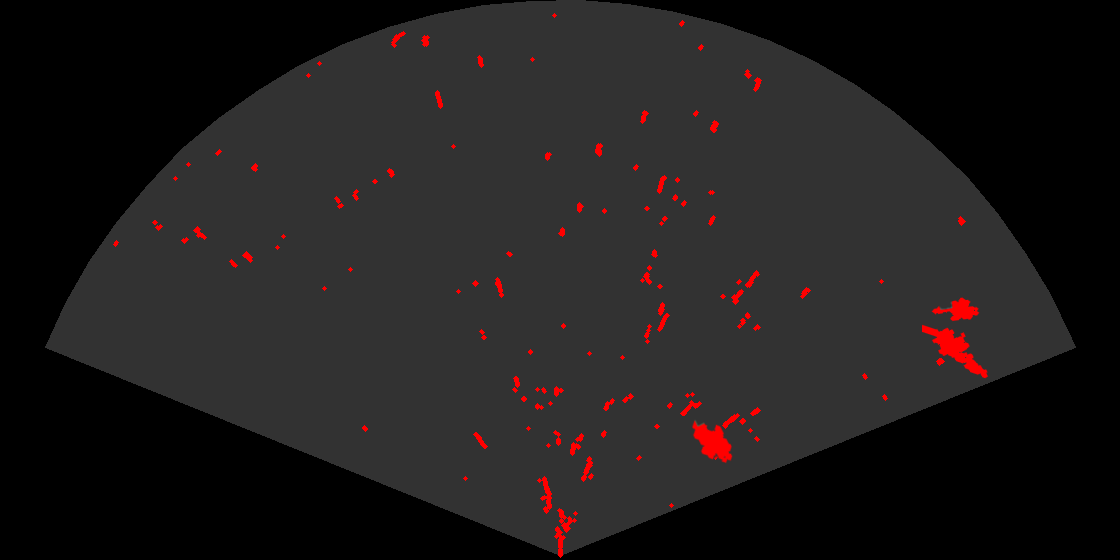AUV: (690, 419, 734, 465), (930, 296, 981, 323)
frogman: (922, 323, 989, 380)
